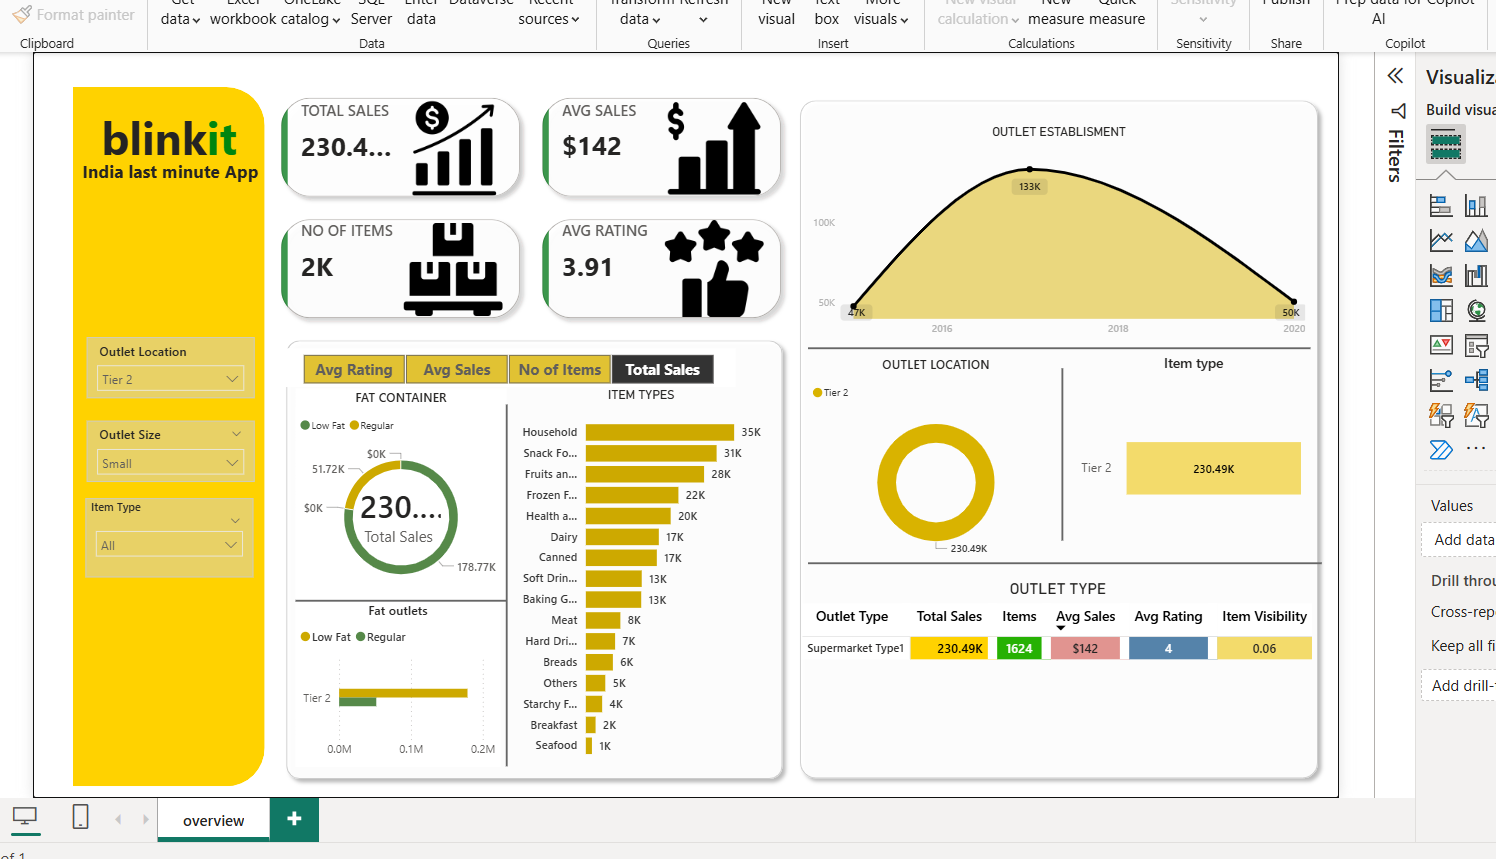

What the dashboard file says about the page in this screenshot:
{"tool":"powerbi","page":{"name":"overview","canvas":[1400,800],"ordinal":0},"visuals":[{"type":"shape","box":[43.5,37.5,205.6,750],"z":0},{"type":"textbox","box":[68.3,53.3,180,113.3],"z":1000},{"type":"textbox","box":[43.3,110,263.3,41.7],"z":2000},{"type":"cardVisual","fields":{"Data":["mesure table.Total Sales","mesure table.Avg Sales","mesure table.No of Items","mesure table.Avg Rating"]},"box":[249.2,31.7,570.8,270],"z":3000},{"type":"shape","box":[263.3,300,550,488.3],"z":4000},{"type":"slicer","fields":{"Values":["Metric.Metric"]},"box":[264.1,317.7,489.3,41.6],"z":5000},{"type":"donutChart","title":"FAT CONTAINER","fields":{"Y":["mesure table.No of Items","mesure table.Avg Sales"],"Category":["BlinkIT Grocery Data.Item Fat Content"]},"box":[281.7,360,226.7,230],"z":6000},{"type":"cardVisual","fields":{"Data":["mesure table.Total Sales"]},"box":[336.7,461.7,111.7,70],"z":7000},{"type":"clusteredBarChart","title":"Fat outlets","fields":{"Y":["mesure table.No of Items"],"Category":["BlinkIT Grocery Data.Outlet Location Type"],"Series":["BlinkIT Grocery Data.Item Fat Content"]},"box":[281.7,590,220,176.7],"z":8000},{"type":"shape","box":[281.5,568.4,226.5,40.2],"z":9000},{"type":"shape","box":[501.7,378.3,13.3,388.3],"z":10000},{"type":"barChart","title":"ITEM TYPES","fields":{"Y":["mesure table.No of Items"],"Category":["BlinkIT Grocery Data.Item Type"]},"box":[508.3,360,288.3,406.7],"z":11000},{"type":"shape","box":[813.3,43.3,573.3,745],"z":12000},{"type":"lineChart","title":"OUTLET ESTABLISMENT","fields":{"Y":["mesure table.Total Sales"],"Category":["BlinkIT Grocery Data.Outlet Establishment Year"]},"box":[831.7,78.3,538.3,235],"z":13000},{"type":"shape","box":[831.1,297.6,538.9,40.2],"z":14000},{"type":"donutChart","title":"OUTLET LOCATION","fields":{"Y":["mesure table.Total Sales"],"Category":["BlinkIT Grocery Data.Outlet Location Type"]},"box":[831.1,325.7,274.8,225.2],"z":15000},{"type":"shape","box":[1100.5,339.1,6.7,185],"z":16000},{"type":"funnel","title":"Item type","fields":{"Y":["Sum(BlinkIT Grocery Data.Sales)"],"Category":["BlinkIT Grocery Data.Outlet Location Type"]},"box":[1119.3,323.1,250.7,225.2],"z":17000},{"type":"shape","box":[831.1,528.2,550.9,40.2],"z":18000},{"type":"pivotTable","title":"OUTLET TYPE","fields":{"Rows":["BlinkIT Grocery Data.Outlet Type"],"Values":["mesure table.Total Sales","mesure table.No of Items","mesure table.Avg Sales","mesure table.Avg Rating","Avg(BlinkIT Grocery Data.Item Visibility)"]},"box":[820.4,565.7,557.6,127.3],"z":19000},{"type":"slicer","fields":{"Values":["BlinkIT Grocery Data.Outlet Location Type"]},"box":[57.6,305.6,179.6,65.7],"z":20000},{"type":"slicer","fields":{"Values":["BlinkIT Grocery Data.Outlet Size"]},"box":[57.6,395.4,179.6,65.7],"z":21000},{"type":"slicer","title":"Item Type","fields":{"Values":["BlinkIT Grocery Data.Item Type"]},"box":[56.3,478.6,179.6,84.5],"z":22000}]}

Visuals, with their boxes on the page's 1400x800 design canvas (x1, y1, x2, y2). These are canvas units, not pixel positions in the 1496x859 screenshot, which may show the page scaled, cropped or inside an application window:
shape: (x1=44, y1=38, x2=249, y2=788)
textbox: (x1=68, y1=53, x2=248, y2=167)
textbox: (x1=43, y1=110, x2=307, y2=152)
cardVisual - mesure table.Total Sales x mesure table.Avg Sales: (x1=249, y1=32, x2=820, y2=302)
shape: (x1=263, y1=300, x2=813, y2=788)
slicer - Metric.Metric: (x1=264, y1=318, x2=753, y2=359)
"FAT CONTAINER" donutChart: (x1=282, y1=360, x2=508, y2=590)
cardVisual - mesure table.Total Sales: (x1=337, y1=462, x2=448, y2=532)
"Fat outlets" clusteredBarChart: (x1=282, y1=590, x2=502, y2=767)
shape: (x1=282, y1=568, x2=508, y2=609)
shape: (x1=502, y1=378, x2=515, y2=767)
"ITEM TYPES" barChart: (x1=508, y1=360, x2=797, y2=767)
shape: (x1=813, y1=43, x2=1387, y2=788)
"OUTLET ESTABLISMENT" lineChart: (x1=832, y1=78, x2=1370, y2=313)
shape: (x1=831, y1=298, x2=1370, y2=338)
"OUTLET LOCATION" donutChart: (x1=831, y1=326, x2=1106, y2=551)
shape: (x1=1100, y1=339, x2=1107, y2=524)
"Item type" funnel: (x1=1119, y1=323, x2=1370, y2=548)
shape: (x1=831, y1=528, x2=1382, y2=568)
"OUTLET TYPE" pivotTable: (x1=820, y1=566, x2=1378, y2=693)
slicer - BlinkIT Grocery Data.Outlet Location Type: (x1=58, y1=306, x2=237, y2=371)
slicer - BlinkIT Grocery Data.Outlet Size: (x1=58, y1=395, x2=237, y2=461)
"Item Type" slicer: (x1=56, y1=479, x2=236, y2=563)
